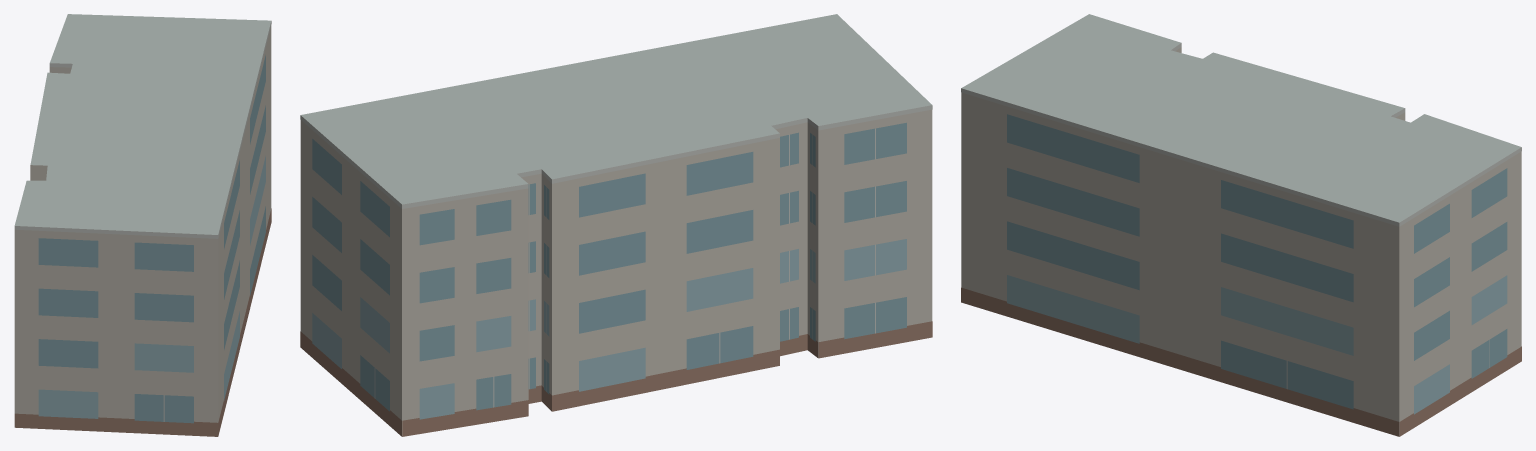
Rendered from survey-upis-32739319.glb.
3 renders of one model, left to right at view 1: azimuth 30°, elevation 25°; view 2: azimuth 150°, elevation 25°; view 3: azimuth 270°, elevation 25°, orthographic. The views are drawn at different scales.
Parts seen in each view (by area): view 1: survey-upis-32739319.tmp; view 2: survey-upis-32739319.tmp; view 3: survey-upis-32739319.tmp.
Boxes of the visible parts, x1,y1,x2,y2 form: survey-upis-32739319.tmp: [14, 14, 271, 436]; survey-upis-32739319.tmp: [300, 14, 932, 436]; survey-upis-32739319.tmp: [961, 14, 1521, 436].
Bounding box in the file's own units: 26.75 × 12.8 × 30.37.
